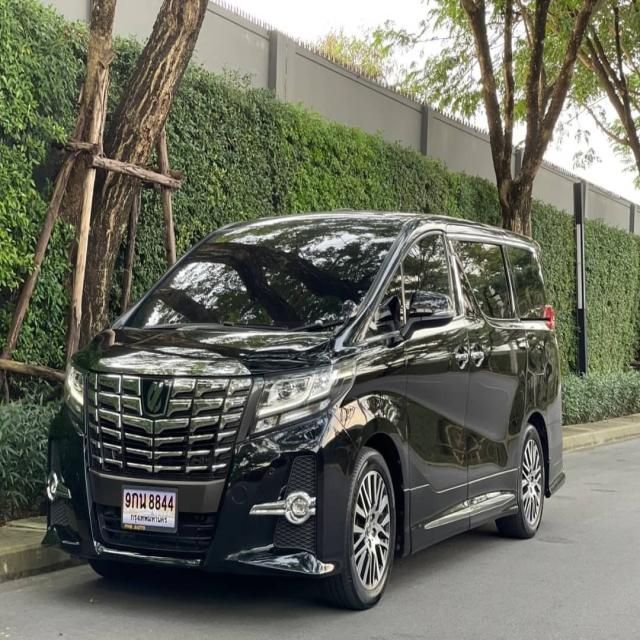license_plate: (120, 482, 179, 538)
